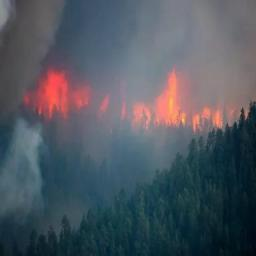Heavy smoke: (0, 1, 256, 202)
Medium fire: (18, 69, 245, 137)
